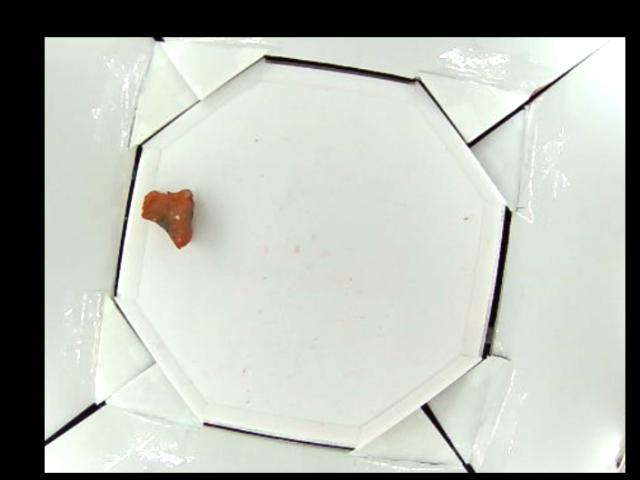Brisk: (140, 188, 196, 249)
